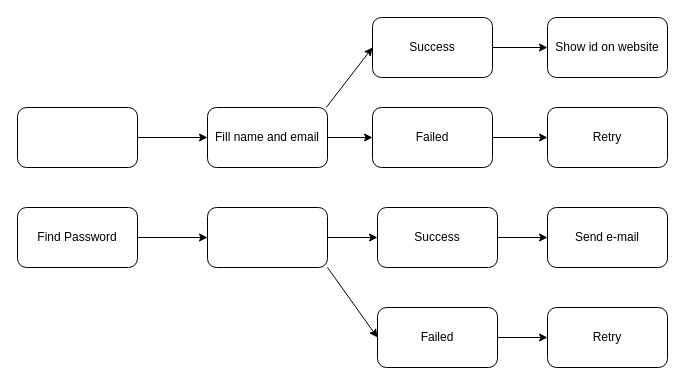
This 685x385 diagram has some shape labels left out. The shapes that lost their labels are listed below. From the top down, each one's centre as x and y in pixels, then its label:
(77,137): FInd ID
(267,237): Fill name, email and id
